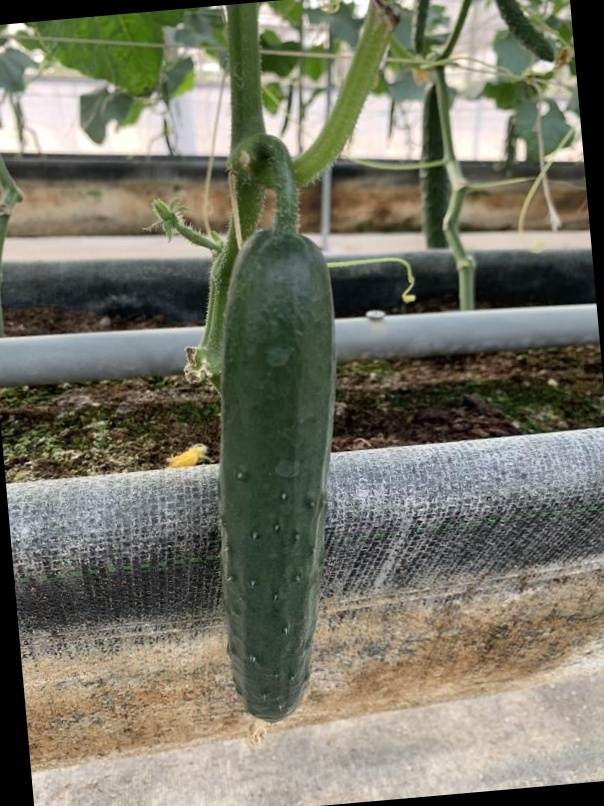mature: (202, 232, 349, 735)
